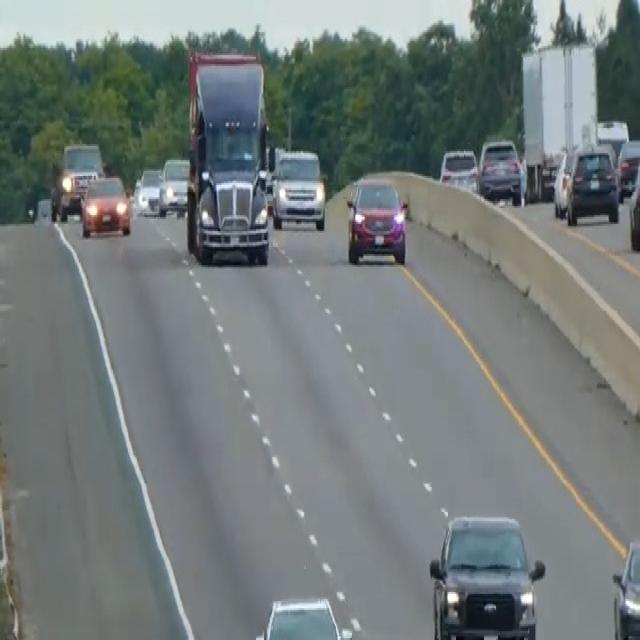car: (427, 510, 545, 638), (345, 174, 408, 265), (270, 146, 326, 231), (564, 142, 619, 226), (50, 138, 105, 220), (253, 594, 344, 638), (79, 172, 131, 238), (477, 137, 523, 204), (610, 537, 639, 638), (158, 155, 190, 217), (439, 146, 478, 194), (551, 147, 574, 217), (616, 137, 639, 201), (135, 165, 162, 215), (628, 154, 639, 252)
lorry: (183, 46, 272, 267)
